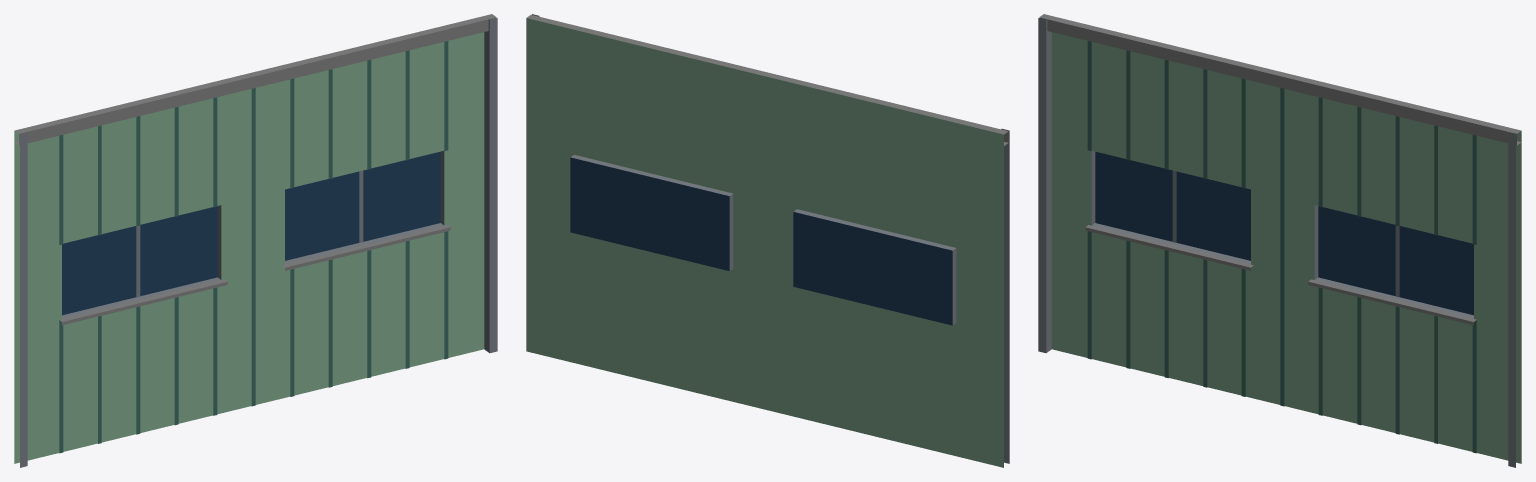
File: mid-w1.fbx
The picture shows the model from 3 angles, left to right: view 1: azimuth 30°, elevation 25°; view 2: azimuth 150°, elevation 25°; view 3: azimuth 330°, elevation 25°; orthographic projection.
Parts seen in each view (by area): view 1: a2013/500/mid-w1; view 2: a2013/500/mid-w1; view 3: a2013/500/mid-w1.
Part boxes in pixels (box(x1,y1,x2,y2)): a2013/500/mid-w1: box(14, 14, 497, 467); a2013/500/mid-w1: box(526, 14, 1009, 467); a2013/500/mid-w1: box(1038, 14, 1521, 467).
Size of the model in its own units: 6 by 4 by 0.2.
